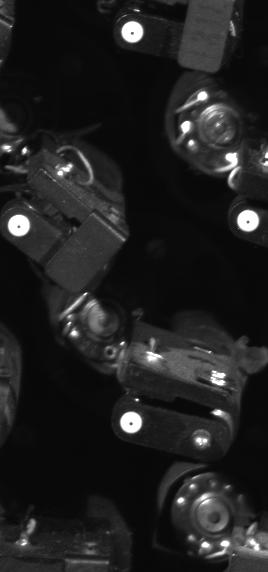fiber: (116, 406, 152, 438), (3, 209, 36, 243), (232, 204, 262, 239), (118, 17, 149, 47)
